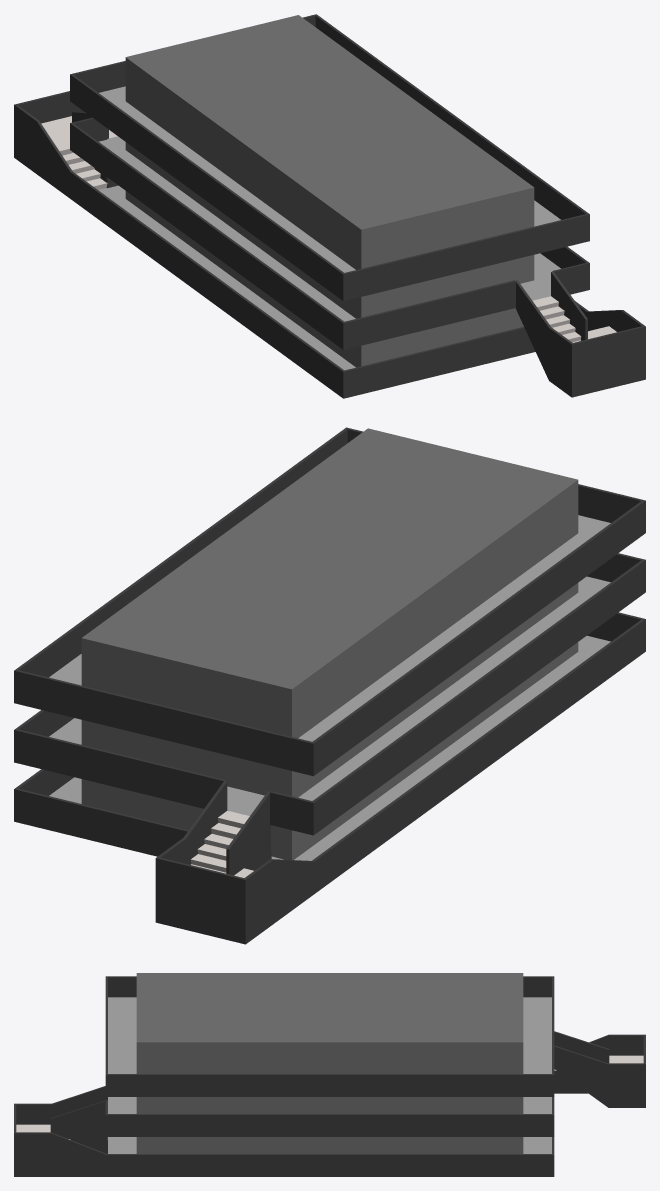
The model's file is stage2.0.fbx.
The picture shows the model from 3 angles, top to bottom: view 1: azimuth 30°, elevation 25°; view 2: azimuth 150°, elevation 25°; view 3: azimuth 270°, elevation 25°; orthographic projection. The views are drawn at different scales.
Parts seen in each view (by area): view 1: Room_3F, Wall_3F, Wall_2F, Wall_1F, Stairs_EastWall, Room_2F, Room_1F, Stairs_WestWall, Floor_2F, Floor_3F, Floor_1F, Stairs_WestFloor (+1 smaller); view 2: Room_3F, Wall_3F, Wall_2F, Wall_1F, Stairs_WestWall, Room_2F, Room_1F, Floor_2F, Floor_1F, Floor_3F, Stairs_WestFloor; view 3: Room_3F, Wall_3F, Wall_2F, Wall_1F, Stairs_EastWall, Room_1F, Room_2F, Stairs_WestWall, Floor_3F, Floor_1F, Floor_2F, Stairs_WestFloor (+1 smaller).
Boxes of the visible parts, box(x1,y1,x2,y2) form: Room_3F: box(125, 15, 534, 269); Wall_3F: box(70, 14, 589, 301); Wall_2F: box(70, 117, 589, 349); Wall_1F: box(70, 172, 588, 398); Stairs_EastWall: box(515, 271, 645, 397); Room_2F: box(125, 142, 534, 318); Room_1F: box(125, 191, 523, 367); Stairs_WestWall: box(14, 91, 108, 198); Floor_2F: box(99, 136, 560, 321); Floor_3F: box(99, 86, 560, 272); Floor_1F: box(98, 185, 355, 370); Stairs_WestFloor: box(41, 116, 117, 189); Room_3F: box(81, 428, 578, 738); Wall_3F: box(14, 427, 645, 776); Wall_2F: box(14, 553, 645, 835); Wall_1F: box(14, 612, 645, 894); Stairs_WestWall: box(155, 780, 313, 944); Room_2F: box(81, 583, 578, 797); Room_1F: box(81, 642, 578, 859); Floor_2F: box(49, 576, 610, 815); Floor_1F: box(49, 636, 610, 860); Floor_3F: box(49, 515, 610, 741); Stairs_WestFloor: box(190, 810, 253, 877); Room_3F: box(136, 973, 523, 1073); Wall_3F: box(105, 976, 554, 1096); Wall_2F: box(105, 1097, 554, 1136); Wall_1F: box(105, 1137, 554, 1176); Stairs_EastWall: box(14, 1086, 106, 1176); Room_1F: box(136, 1137, 523, 1153); Room_2F: box(136, 1097, 523, 1113); Stairs_WestWall: box(554, 1031, 645, 1107); Floor_3F: box(108, 997, 551, 1073); Floor_1F: box(108, 1137, 551, 1153); Floor_2F: box(108, 1097, 551, 1113); Stairs_WestFloor: box(554, 1055, 643, 1070).
Size of what is drawn, in the model's own units: 869 by 492 by 2351.
1 material, 1 textured.
